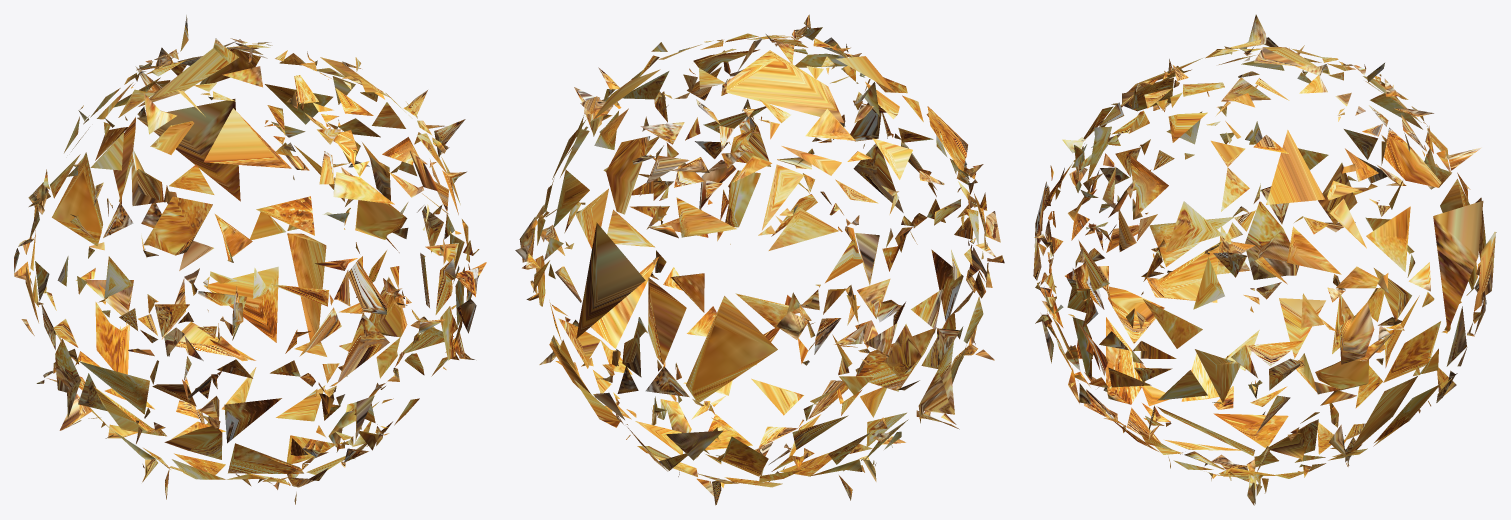
File: MAHWORLD_OVERSIZED_SUN_L1.glb
3 views of the same model, side by side, from view 1: azimuth 30°, elevation 25°; view 2: azimuth 150°, elevation 25°; view 3: azimuth 270°, elevation 25° (orthographic). The views are drawn at different scales.
Parts seen in each view (by area): view 1: MAHWORLD_OVERSIZED_SUN_L1; view 2: MAHWORLD_OVERSIZED_SUN_L1; view 3: MAHWORLD_OVERSIZED_SUN_L1.
Boxes of the visible parts, bbox=[...] form: MAHWORLD_OVERSIZED_SUN_L1: bbox=[14, 15, 486, 504]; MAHWORLD_OVERSIZED_SUN_L1: bbox=[515, 14, 1004, 505]; MAHWORLD_OVERSIZED_SUN_L1: bbox=[1033, 14, 1496, 505].
Size of the model in its own units: 0.911 by 0.9518 by 0.9192.
1 material, 1 textured.
